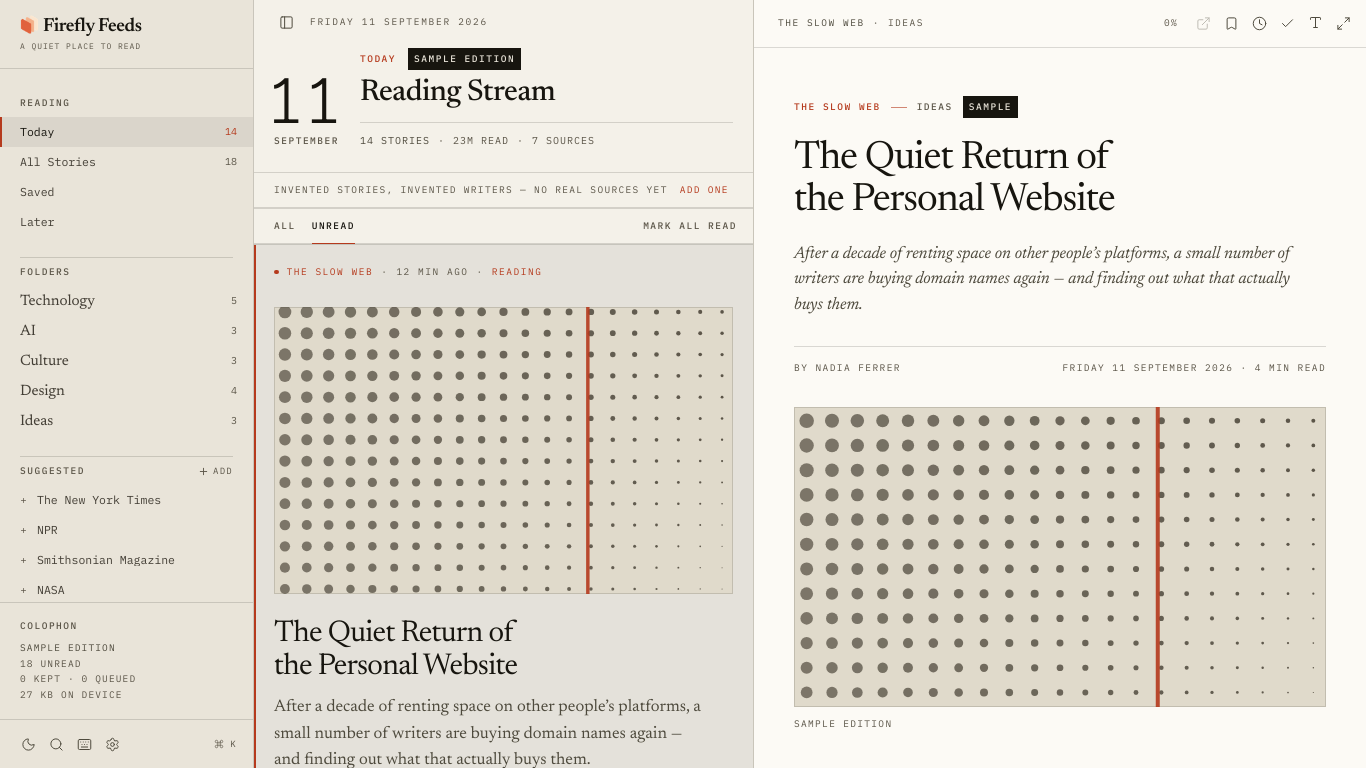
Scenario: subscribing › lets the reader pick the classifier, and asks that one for what it needs
Expected: the heading "Reading Stream" is shown, 360,78 -> 555,108
Click the button named "Settings": (112, 744) 100,732 -> 124,756
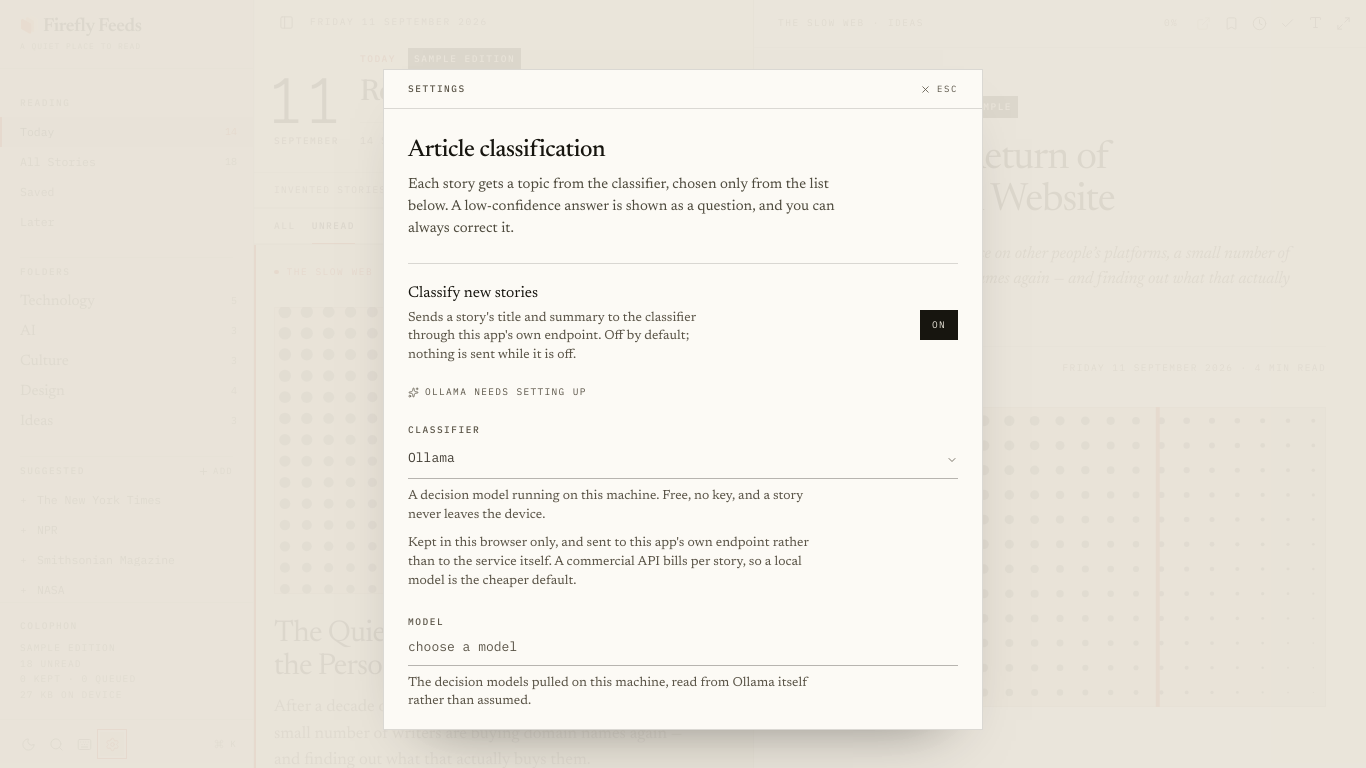
Expected: the dropdown labelled "Classifier" shows "Ollama"
Expected: the field labelled "Model" is shown, 408,637 -> 958,657
OpenAI is the one that answers in its own format, so it asks the most
Select "OpenAI" in the dropdown labelled "Classifier": (671, 457) 408,448 -> 934,467
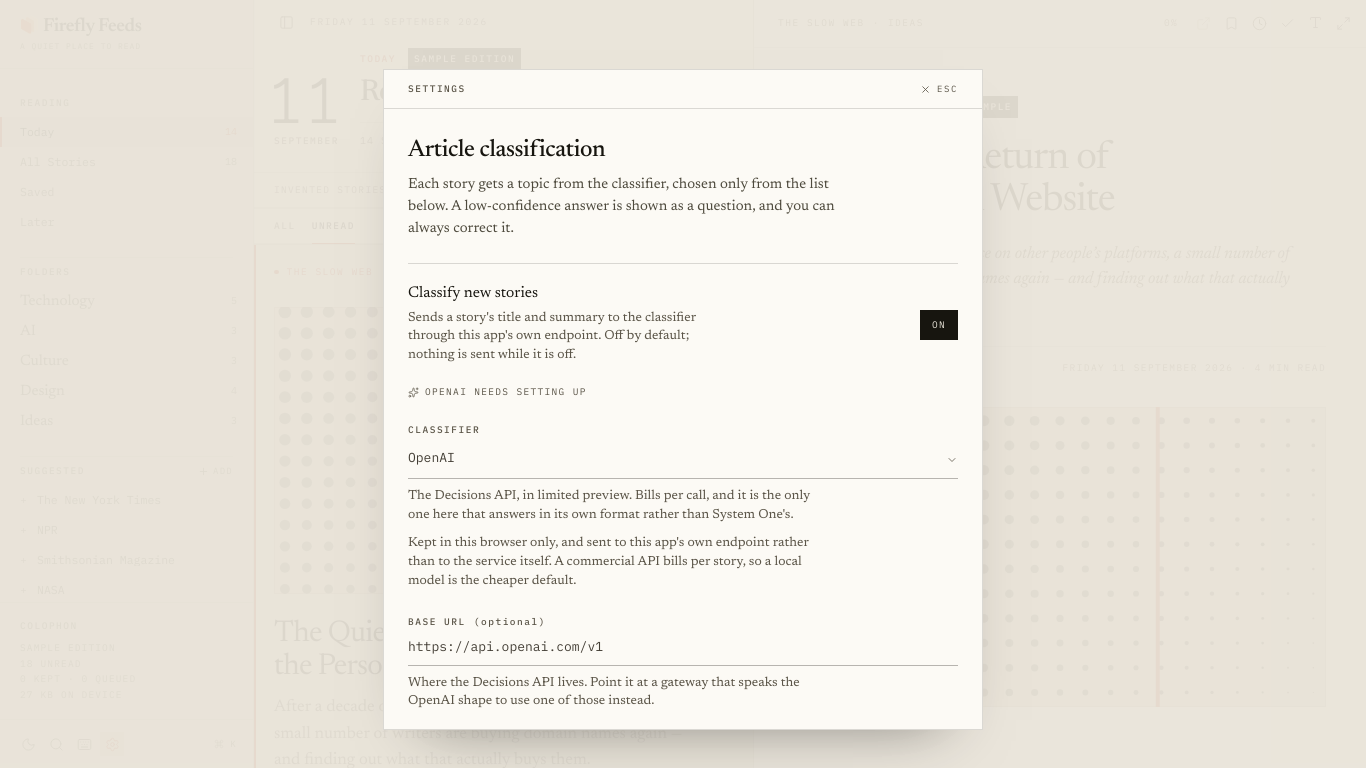
Expected: the field labelled "Ollama address" is not shown
Expected: the text "limited preview" is shown, 408,489 -> 810,520
